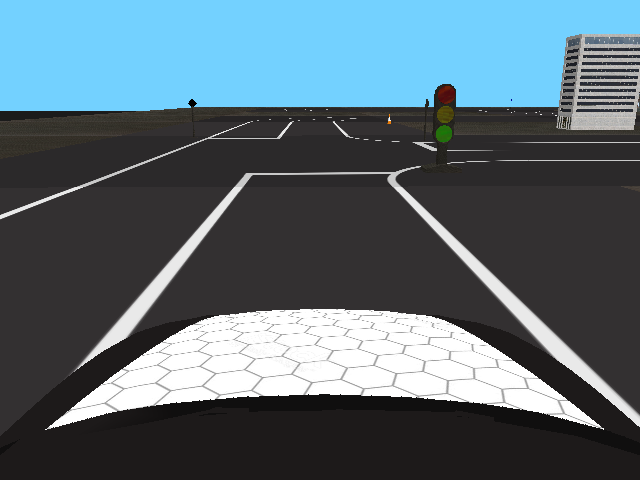green_light: (433, 83, 456, 146)
